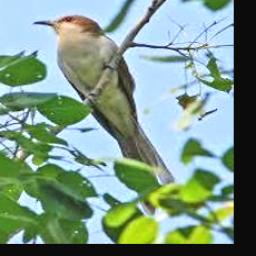Cuckoo: (32, 14, 177, 213)
